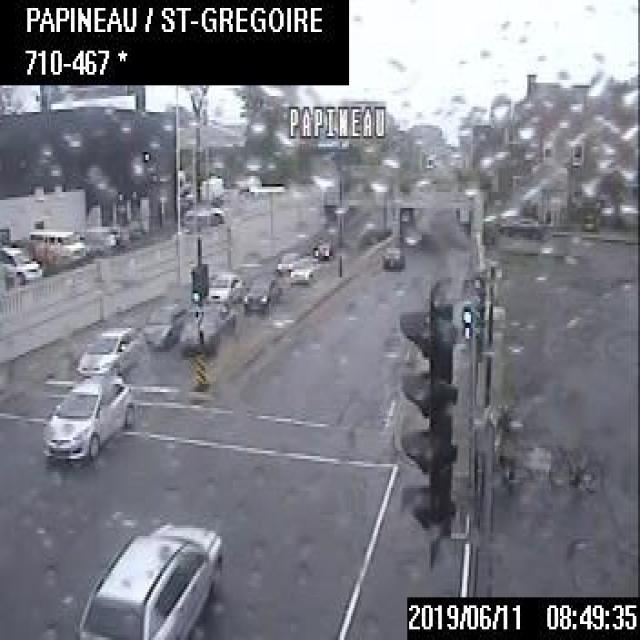vehicle: (73, 518, 220, 638), (40, 371, 132, 462), (74, 321, 144, 376), (181, 299, 237, 359), (140, 296, 181, 352), (26, 224, 86, 262), (240, 268, 280, 316), (0, 241, 42, 284), (206, 268, 238, 304), (290, 252, 318, 284), (309, 235, 335, 262), (382, 245, 402, 267), (404, 227, 420, 245)
